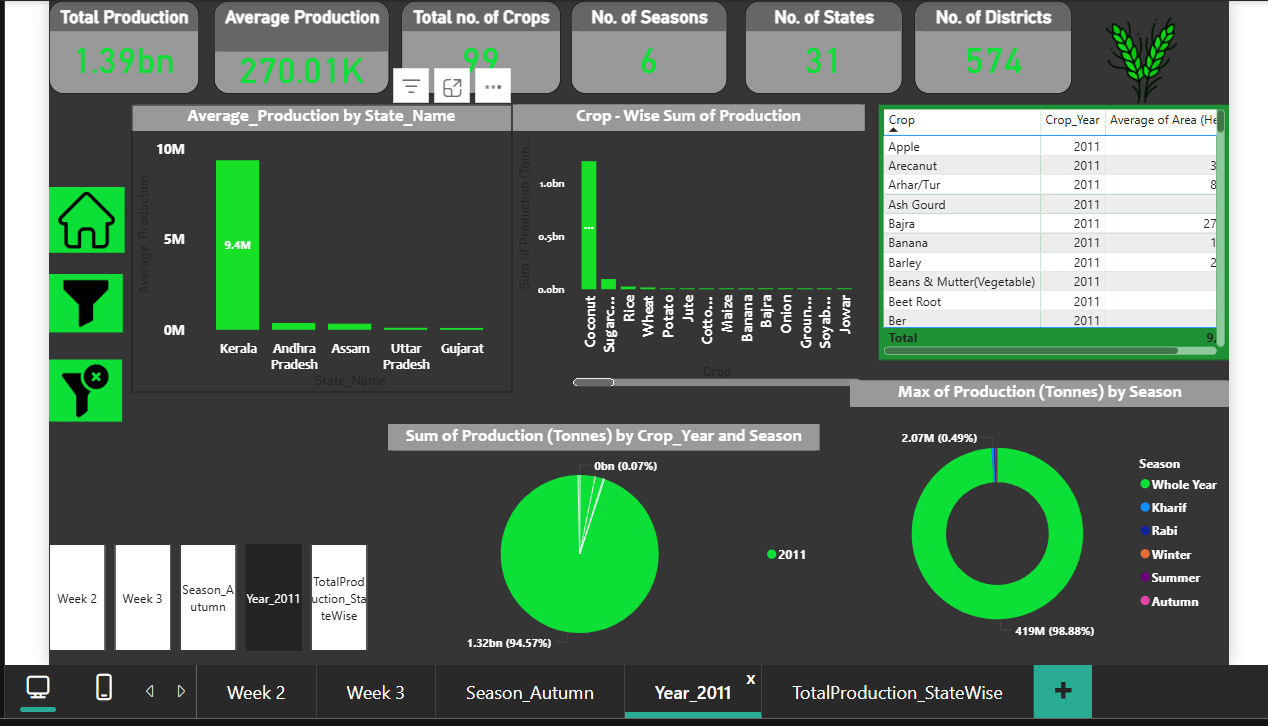

What the dashboard file says about the page in this screenshot:
{"tool":"powerbi","page":{"name":"Year_2011","canvas":[1280,720],"ordinal":3},"visuals":[{"type":"image","box":[0,201,82,71.4],"z":0},{"type":"image","box":[0,296.2,79.8,63.5],"z":1000},{"type":"image","box":[0,389.3,79.2,67.6],"z":3000},{"type":"card","title":"Total Production","fields":{"Values":["Crop_Data.Total_Production"]},"box":[0,0,162.7,100.8],"z":4000},{"type":"card","title":"Total no. of Crops","fields":{"Values":["Crop_Data.No_of_Crops"]},"box":[382.2,0,172.4,100.8],"z":5000},{"type":"card","title":"Average Production ","fields":{"Values":["Crop_Data.Average_Production"]},"box":[178.9,0,190.3,100.8],"z":6000},{"type":"card","title":"No. of States","fields":{"Values":["Crop_Data.Total_States"]},"box":[754.7,0,170.8,100.8],"z":7000},{"type":"card","title":"No. of Seasons  ","fields":{"Values":["Crop_Data.No_of_Seasons"]},"box":[566,0,169.2,100.8],"z":9000},{"type":"card","title":"No. of Districts ","fields":{"Values":["Crop_Data.No_of_Districts"]},"box":[938.5,0,170.8,100.8],"z":10000},{"type":"columnChart","title":"Crop - Wise Sum of Production  ","fields":{"Category":["Crop_Data.Crop"],"Y":["Sum(Crop_Data.Production (Tonnes))"]},"box":[502,112,382,310],"z":11000},{"type":"pieChart","fields":{"Category":["Crop_Data.Crop_Year"],"Y":["Sum(Crop_Data.Production (Tonnes))"],"Series":["Crop_Data.Season"]},"box":[368,458,468,258],"z":12000},{"type":"image","box":[1130,0,108,128],"z":13000},{"type":"columnChart","fields":{"Category":["Crop_Data.State_Name"],"Y":["Crop_Data.Average_Production"]},"box":[90,112,412,312],"z":14000},{"type":"tableEx","fields":{"Values":["Crop_Data.Crop","Crop_Data.Crop_Year","Avg(Crop_Data.Area (Hectares))"]},"box":[899.5,112.2,380.6,276.5],"z":15000},{"type":"donutChart","fields":{"Category":["Crop_Data.Season"],"Y":["Max(Crop_Data.Production (Tonnes))"]},"box":[868,412,412,308],"z":17000},{"type":"pageNavigator","box":[0,588,348,116],"z":17501}]}

Visuals, with their boxes on the page's 1280x720 design canvas (x1, y1, x2, y2). These are canvas units, not pixel positions in the 1268x726 screenshot, which may show the page scaled, cropped or inside an application window:
image: (left=0, top=201, right=82, bottom=272)
image: (left=0, top=296, right=80, bottom=360)
image: (left=0, top=389, right=79, bottom=457)
"Total Production" card: (left=0, top=0, right=163, bottom=101)
"Total no. of Crops" card: (left=382, top=0, right=555, bottom=101)
"Average Production " card: (left=179, top=0, right=369, bottom=101)
"No. of States" card: (left=755, top=0, right=926, bottom=101)
"No. of Seasons  " card: (left=566, top=0, right=735, bottom=101)
"No. of Districts " card: (left=938, top=0, right=1109, bottom=101)
"Crop - Wise Sum of Production  " columnChart: (left=502, top=112, right=884, bottom=422)
pieChart - Crop_Data.Crop_Year x Sum(Crop_Data.Production (Tonnes)): (left=368, top=458, right=836, bottom=716)
image: (left=1130, top=0, right=1238, bottom=128)
columnChart - Crop_Data.State_Name x Crop_Data.Average_Production: (left=90, top=112, right=502, bottom=424)
tableEx - Crop_Data.Crop x Crop_Data.Crop_Year: (left=900, top=112, right=1280, bottom=389)
donutChart - Crop_Data.Season x Max(Crop_Data.Production (Tonnes)): (left=868, top=412, right=1280, bottom=720)
pageNavigator: (left=0, top=588, right=348, bottom=704)
